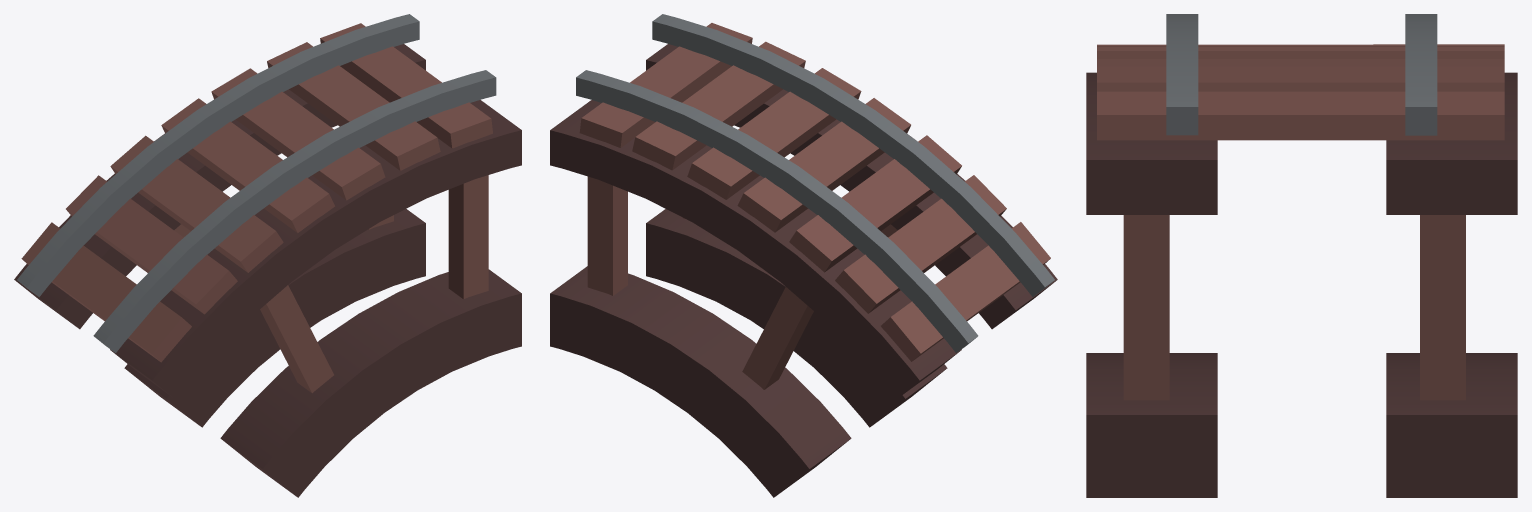
The model's file is DarkRoseWoodMechSharp0_96GaugeFall1.fbx.
The picture shows the model from 3 angles, left to right: view 1: azimuth 30°, elevation 25°; view 2: azimuth 150°, elevation 25°; view 3: azimuth 270°, elevation 25°; orthographic projection. The views are drawn at different scales.
Visible parts, largest first — view 1: DarkRoseWoodMechSharp0_96GaugeFall1; view 2: DarkRoseWoodMechSharp0_96GaugeFall1; view 3: DarkRoseWoodMechSharp0_96GaugeFall1.
Part boxes in pixels (x1,y1,x2,y2): DarkRoseWoodMechSharp0_96GaugeFall1: (14,14,521,497); DarkRoseWoodMechSharp0_96GaugeFall1: (550,14,1057,497); DarkRoseWoodMechSharp0_96GaugeFall1: (1086,14,1517,497).
Size of the model in its own units: 363 by 307 by 221.
